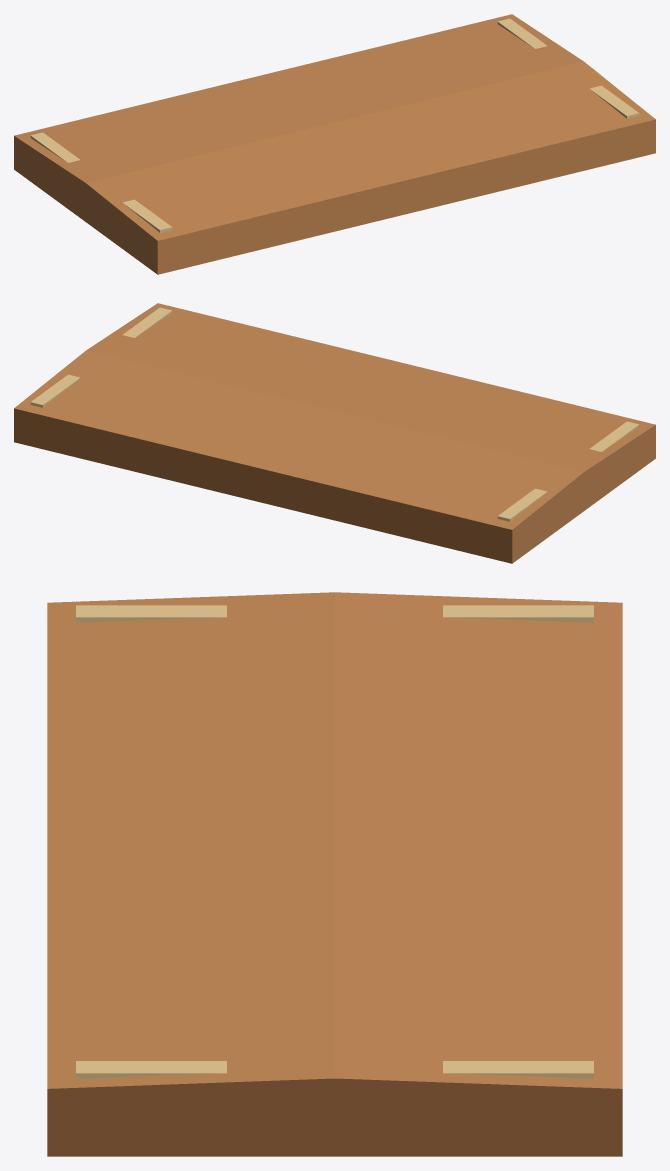
The model's file is plank_1_3.glb.
The picture shows the model from 3 angles, top to bottom: view 1: azimuth 30°, elevation 25°; view 2: azimuth 150°, elevation 25°; view 3: azimuth 270°, elevation 25°; orthographic projection. The views are drawn at different scales.
Visible parts, largest first — view 1: plank; view 2: plank; view 3: plank.
Part boxes in pixels (<box>): plank: <box>14,14,655,274</box>; plank: <box>14,303,655,563</box>; plank: <box>47,592,622,1156</box>.
Bounding box in the file's own units: 0.08 × 0.006 × 0.04.
